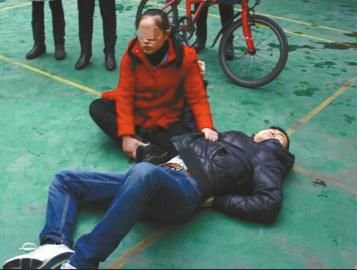fall: (13, 116, 302, 266)
